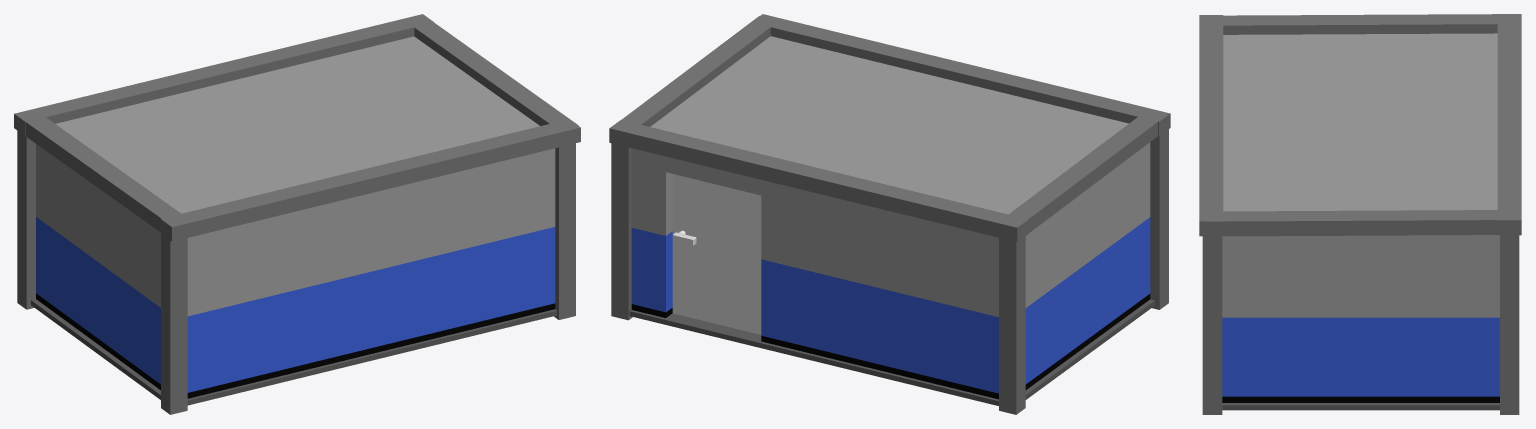
Rendered from Shead.fbx.
3 views of the same model, side by side, from view 1: azimuth 30°, elevation 25°; view 2: azimuth 150°, elevation 25°; view 3: azimuth 270°, elevation 25° (orthographic). The views are drawn at different scales.
Parts seen in each view (by area): view 1: Cube; view 2: Cube; view 3: Cube.
Part boxes in pixels (<box>): Cube: <box>14,14,580,414</box>; Cube: <box>609,14,1170,414</box>; Cube: <box>1199,14,1521,414</box>.
Bounding box in the file's own units: 1377 × 604 × 903.
